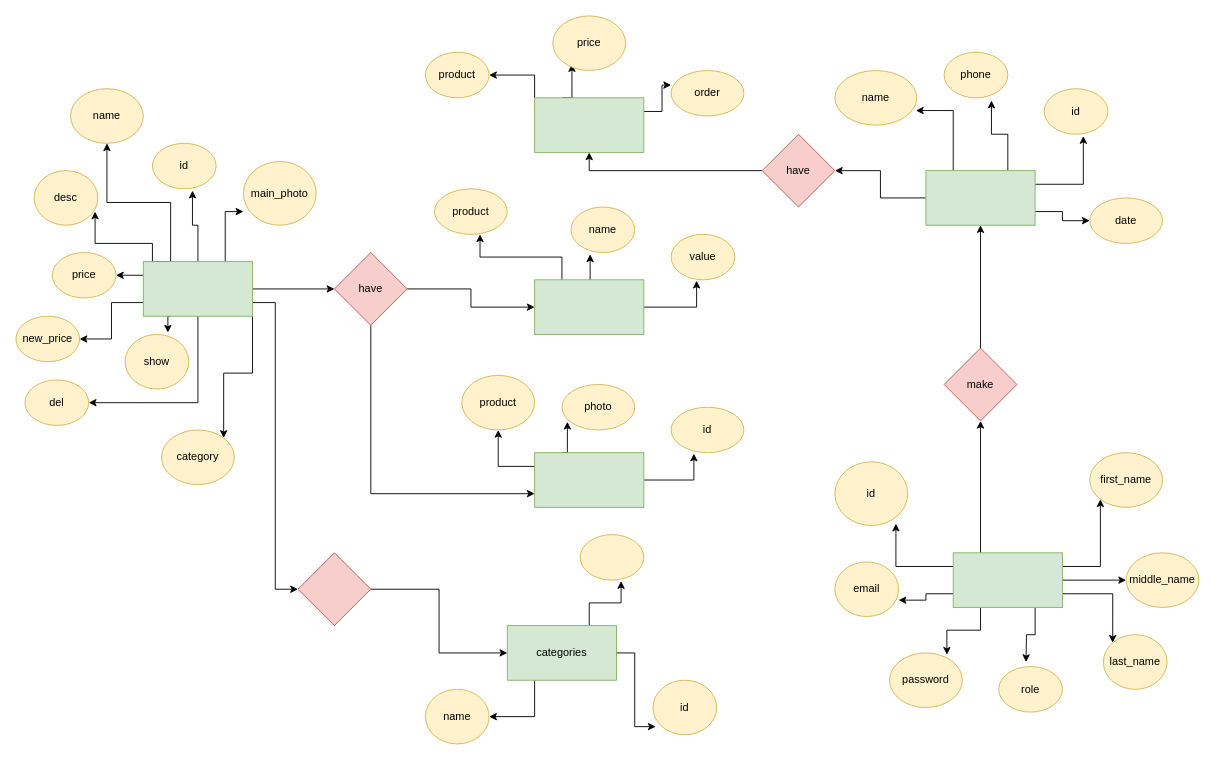
The diagram is 1215 pixels wide and 760 high, and some of its shapes have lost their labels. The box of each missing label's shape, as (x1, y1, x2, y2) in pixels:
belong to: (297, 552, 371, 626)
image: (579, 534, 644, 580)
order_products: (534, 97, 644, 152)
orders: (925, 170, 1035, 225)
photos: (534, 452, 644, 507)
products: (142, 261, 253, 316)
specifications: (534, 279, 644, 334)
users: (952, 552, 1062, 607)
